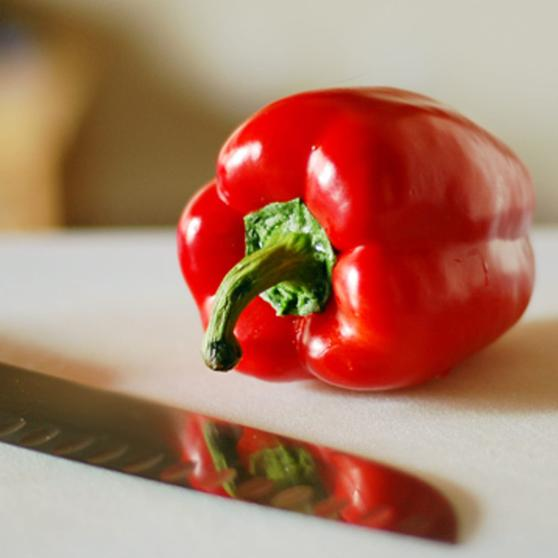pepper: (171, 77, 540, 392)
